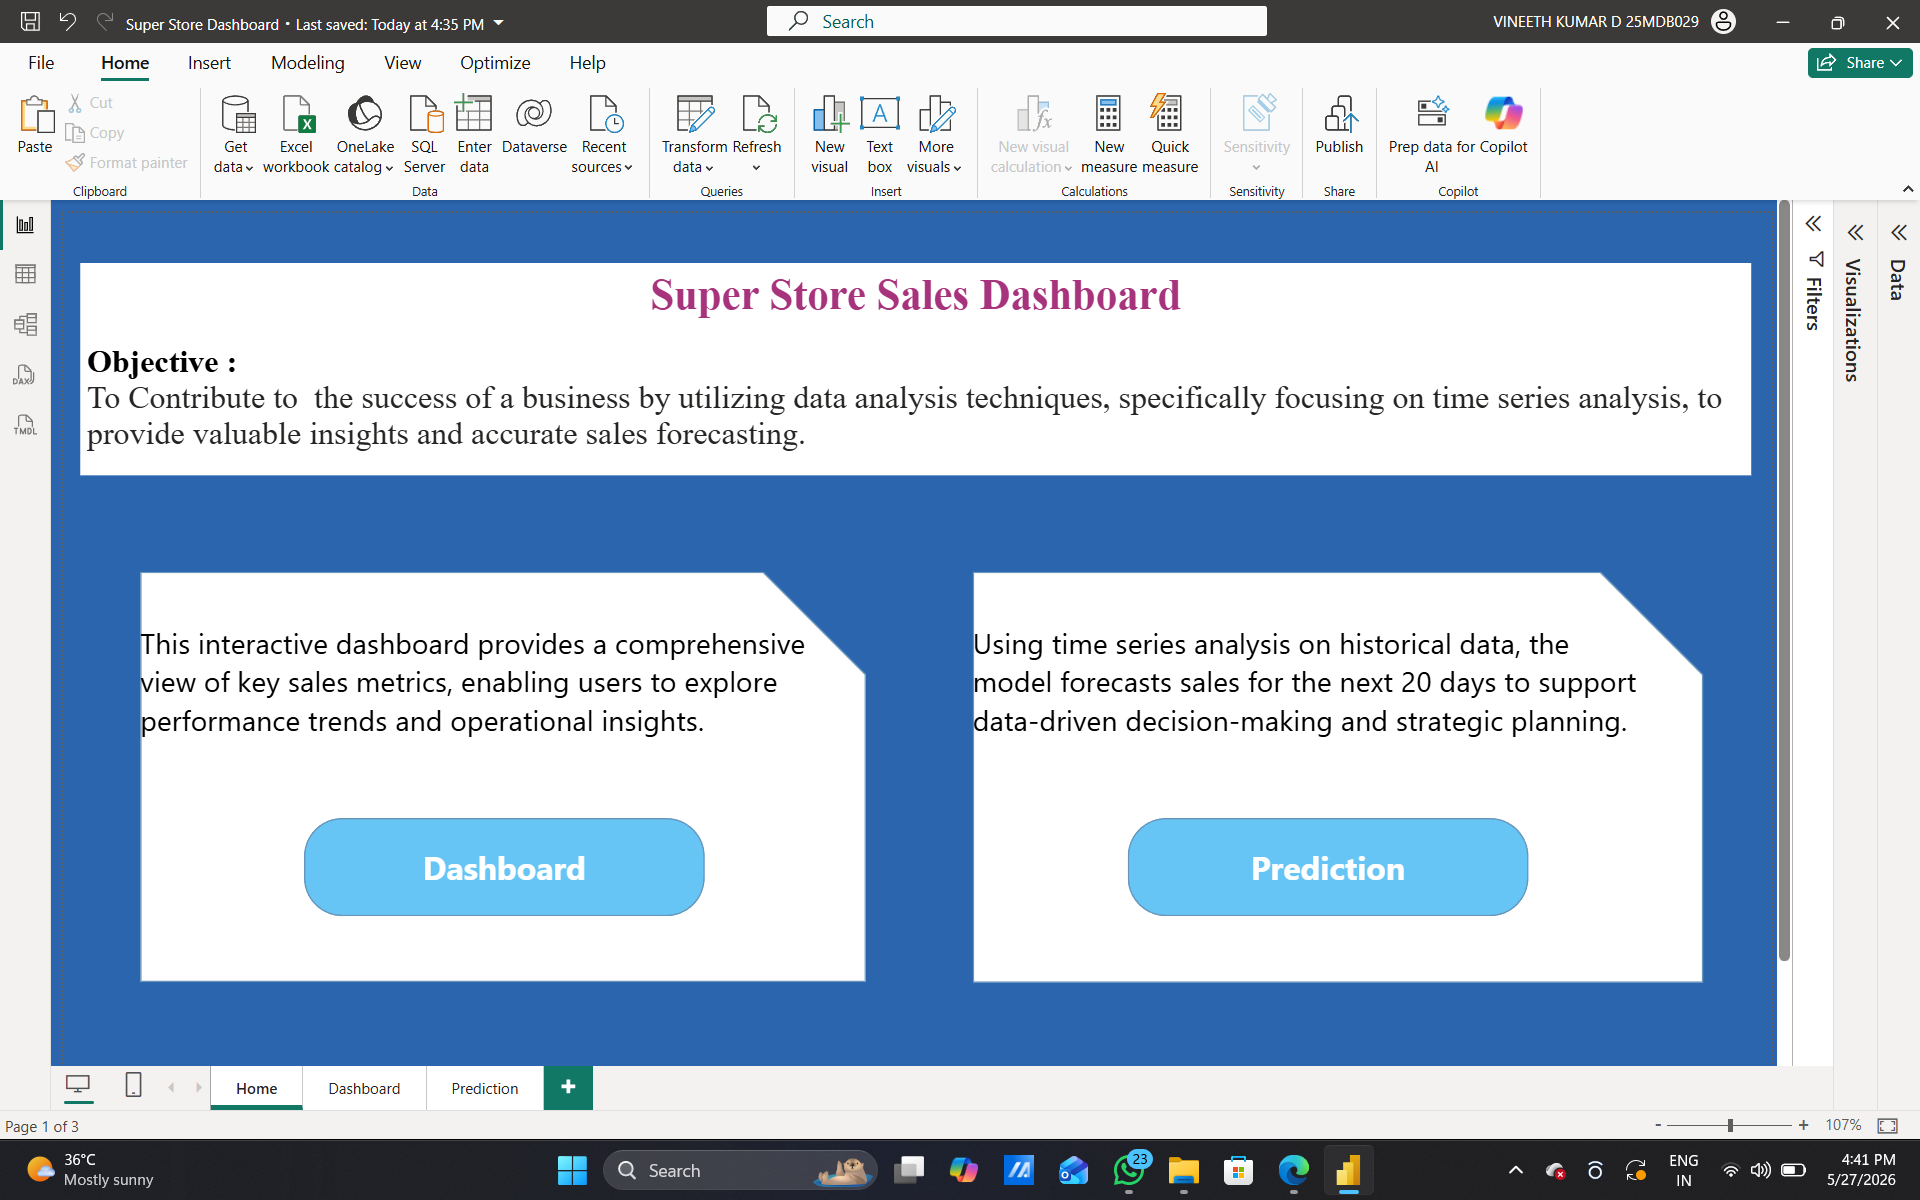

This screenshot's page, from the dashboard's own definition file:
{"tool":"powerbi","page":{"name":"Home","canvas":[1280,720],"ordinal":0},"visuals":[{"type":"textbox","box":[12.3,37,1252.8,159.2],"z":0},{"type":"shape","box":[56.7,269,544.1,307.6],"z":1000},{"type":"shape","box":[681.4,268.6,547.7,308.1],"z":2000},{"type":"shape","box":[179.8,453.6,300.4,73.6],"z":3000},{"type":"shape","box":[797.5,453.6,300.4,73.6],"z":4000}]}

Visuals, with their boxes on the page's 1280x720 design canvas (x1, y1, x2, y2). These are canvas units, not pixel positions in the 1920x1200 screenshot, which may show the page scaled, cropped or inside an application window:
textbox: bbox=[12, 37, 1265, 196]
shape: bbox=[57, 269, 601, 577]
shape: bbox=[681, 269, 1229, 577]
shape: bbox=[180, 454, 480, 527]
shape: bbox=[798, 454, 1098, 527]
